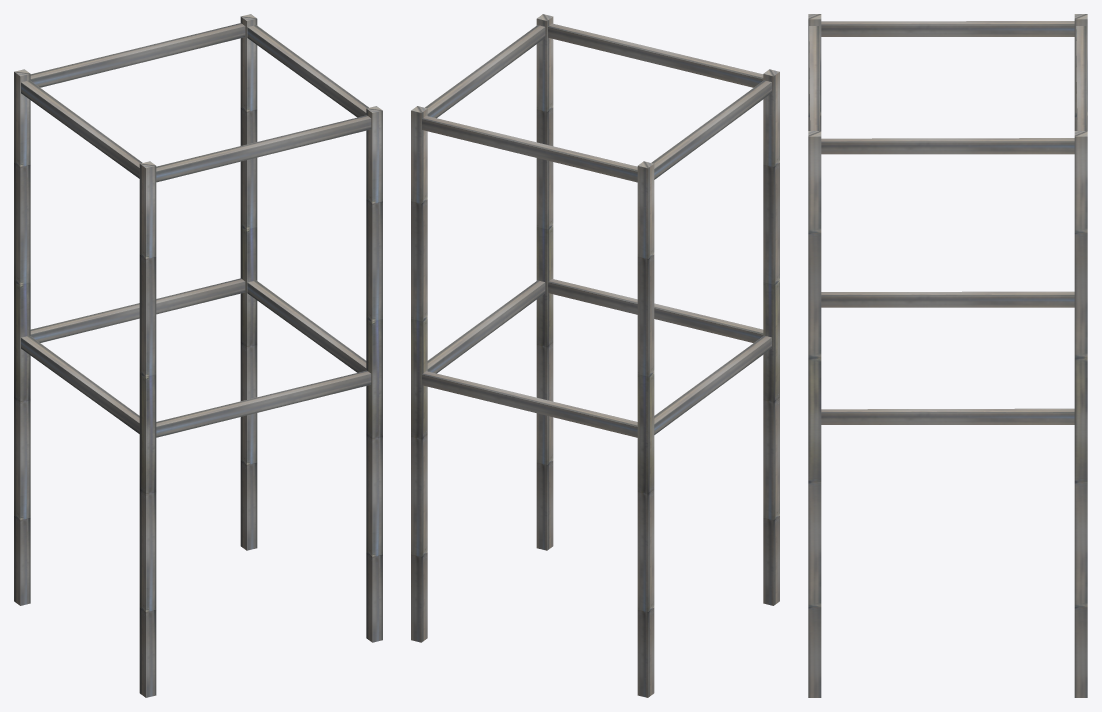
Rendered from structure.FBX.
The picture shows the model from 3 angles, left to right: view 1: azimuth 30°, elevation 25°; view 2: azimuth 150°, elevation 25°; view 3: azimuth 270°, elevation 25°; orthographic projection. The views are drawn at different scales.
Parts seen in each view (by area): view 1: structure; view 2: structure; view 3: structure.
Part boxes in pixels (bbox=[...]): structure: bbox=[14, 14, 382, 697]; structure: bbox=[411, 14, 779, 697]; structure: bbox=[808, 14, 1087, 697].
Size of the model in its own units: 495 by 1059 by 478.
